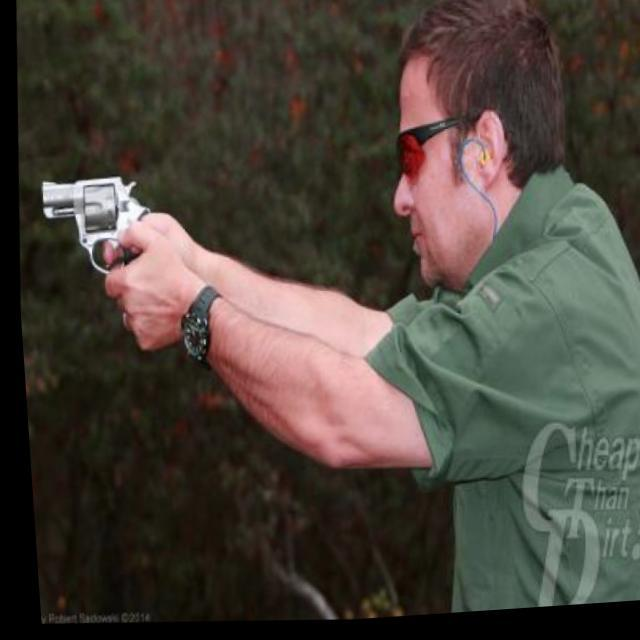weapon: (18, 166, 180, 332)
